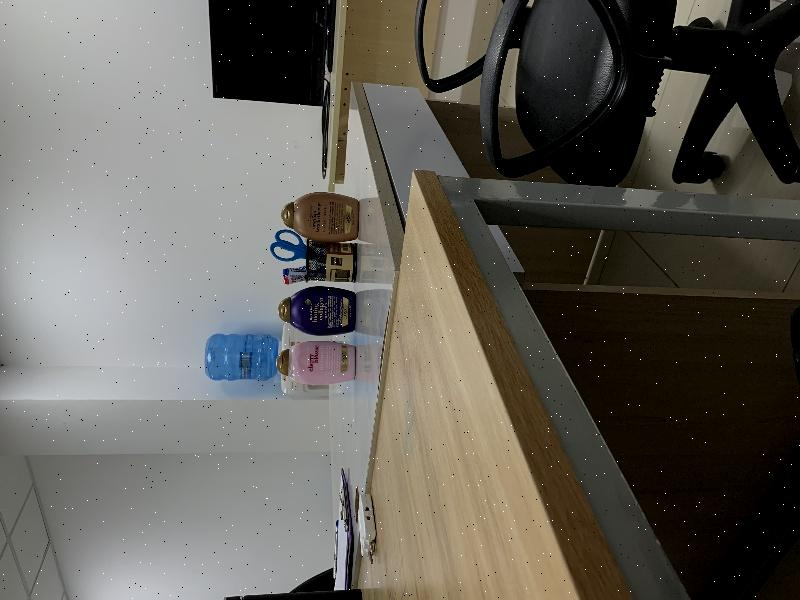BiotinCollagen_Shampoo: (278, 286, 356, 336)
BrazilianKerationTherapy_Conditioner: (281, 192, 359, 242)
CherryBlossom_Conditioner: (276, 341, 356, 385)
